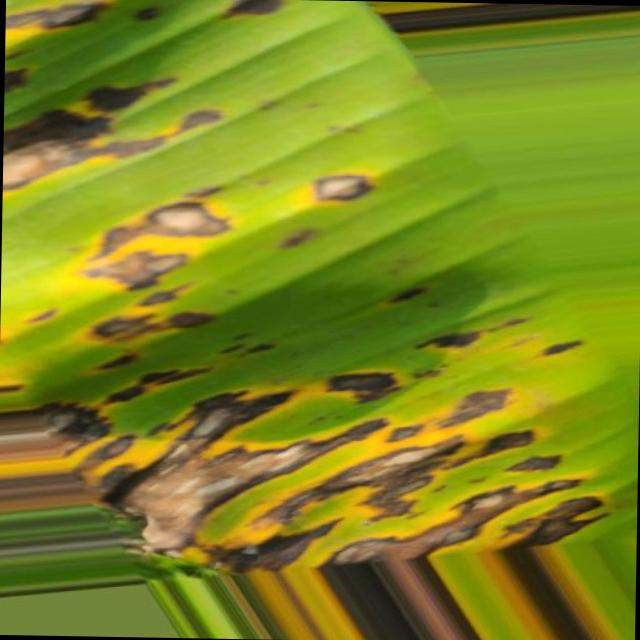Banana_Yellow_Sigatoka: (9, 360, 639, 596), (2, 62, 274, 346)
